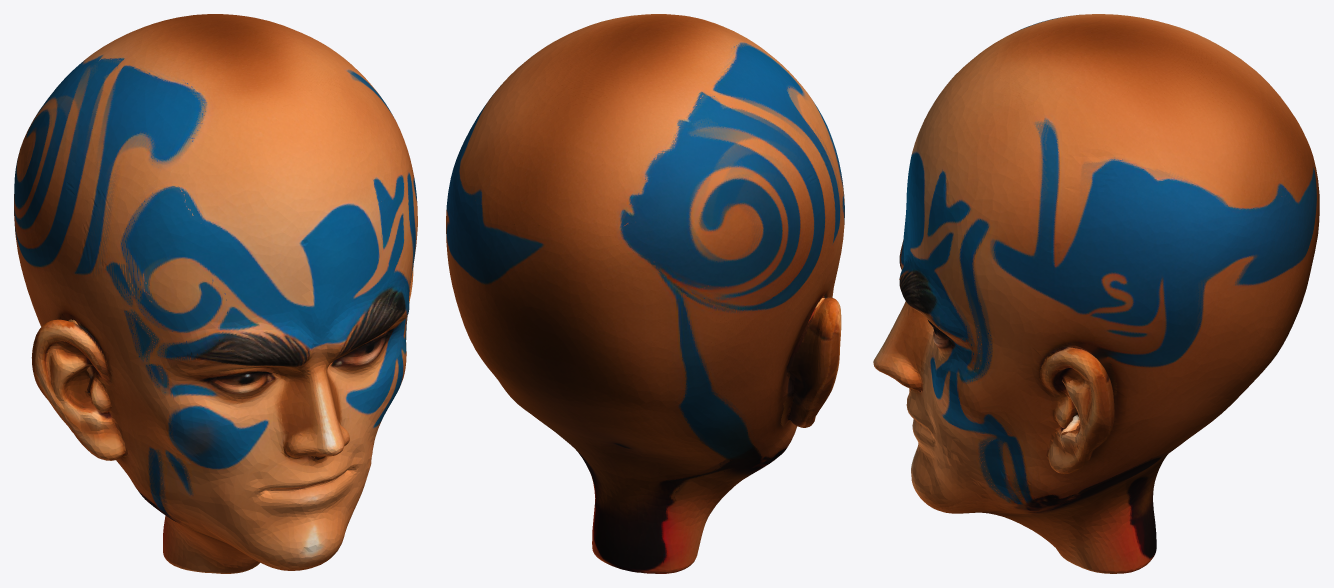
The model's file is traveler_head_side_yosai_slim_socket_00001_.glb.
3 views of the same model, side by side, from view 1: azimuth 30°, elevation 25°; view 2: azimuth 150°, elevation 25°; view 3: azimuth 270°, elevation 25° (orthographic).
Parts seen in each view (by area): view 1: temp_mesh.ply; view 2: temp_mesh.ply; view 3: temp_mesh.ply.
Boxes of the visible parts, x1,y1,x2,y2 form: temp_mesh.ply: (14, 14, 417, 573); temp_mesh.ply: (446, 14, 844, 573); temp_mesh.ply: (873, 14, 1319, 573).
Bounding box in the file's own units: 1.49 × 1.97 × 1.53.
Materials: 1 (1 with a texture image).
